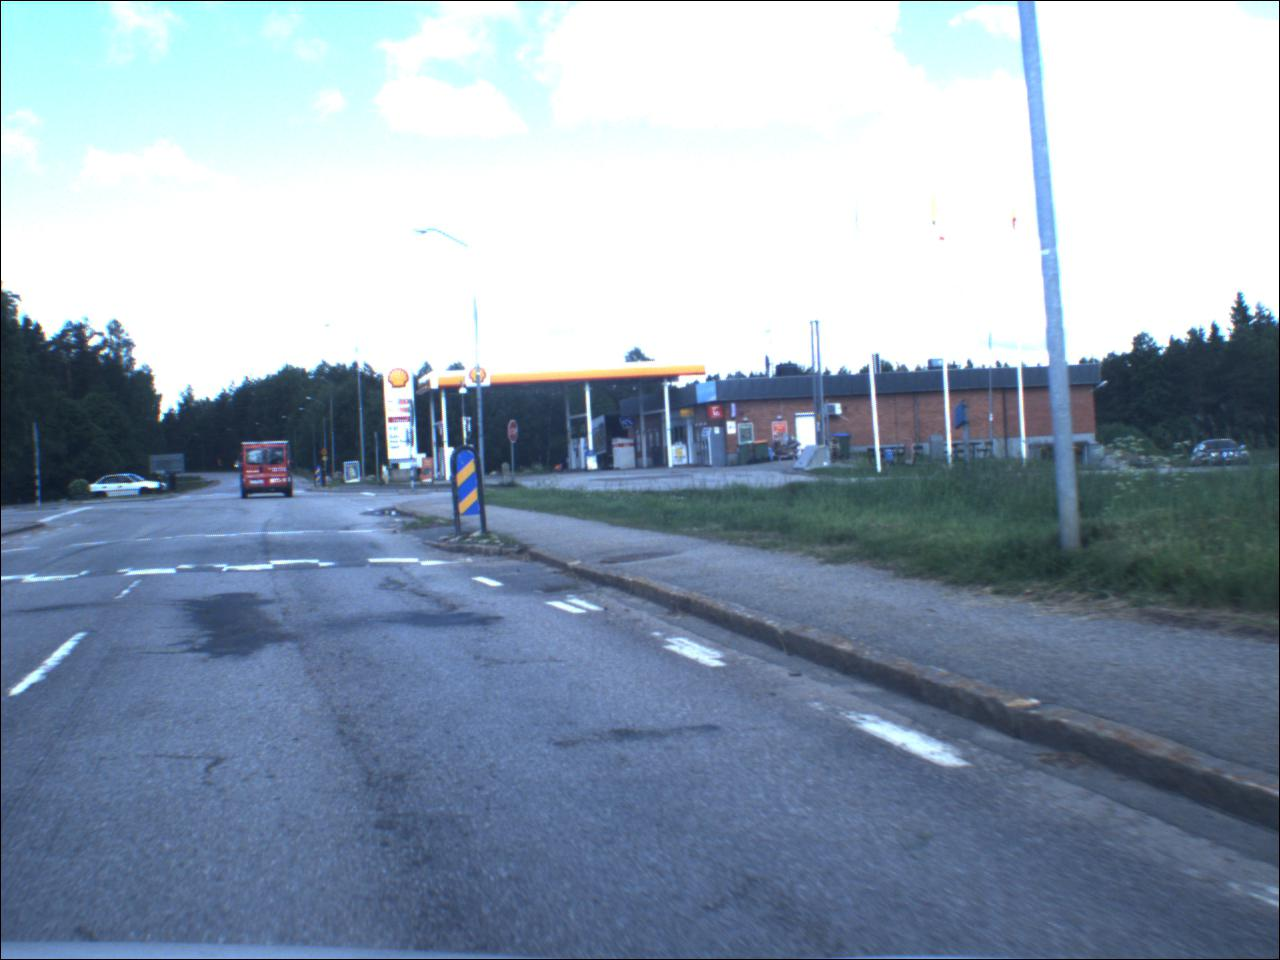50_SIGN: (322, 450, 331, 458)
PRIORITY_ROAD: (323, 458, 331, 465)
STOP: (509, 419, 521, 445)
